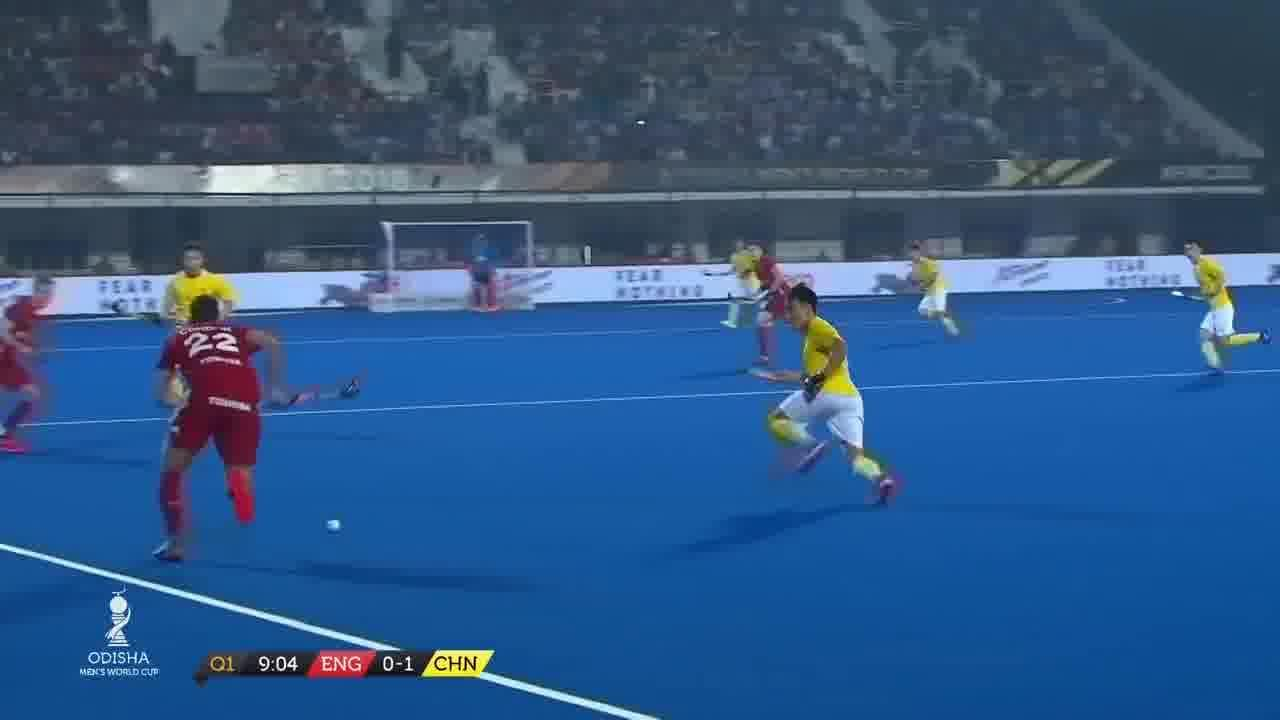ball: (324, 510, 346, 548)
